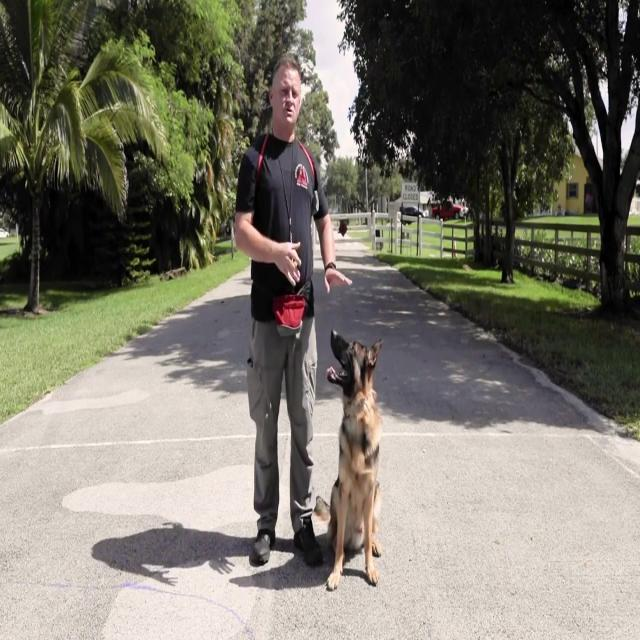Unleashed_Dog: (268, 302, 384, 594)
